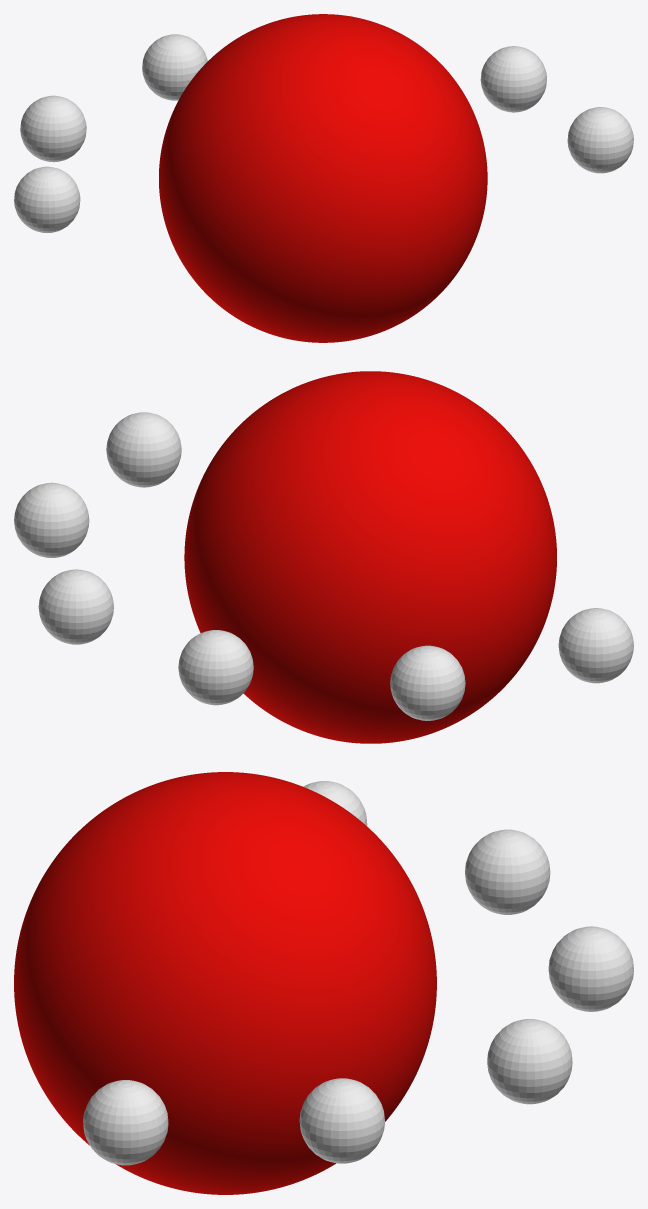
File: OxygenAtom.gltf
The picture shows the model from 3 angles, top to bottom: view 1: azimuth 30°, elevation 25°; view 2: azimuth 150°, elevation 25°; view 3: azimuth 270°, elevation 25°; orthographic projection. The views are drawn at different scales.
Visible parts, largest first — view 1: Icosphere, Sphere.001, Sphere.004, Sphere, Sphere.002, Sphere.005; view 2: Icosphere, Sphere.001, Sphere, Sphere.002, Sphere.005, Sphere.003, Sphere.004; view 3: Icosphere, Sphere.004, Sphere.003, Sphere.001, Sphere.002, Sphere.005, Sphere.
Part boxes in pixels (x1,y1,x2,y2): Icosphere: [159, 14, 487, 342]; Sphere.001: [567, 107, 633, 173]; Sphere.004: [20, 95, 86, 162]; Sphere: [14, 166, 80, 232]; Sphere.002: [480, 46, 546, 112]; Sphere.005: [142, 34, 207, 100]; Icosphere: [184, 371, 556, 743]; Sphere.001: [106, 412, 181, 487]; Sphere: [558, 608, 633, 683]; Sphere.002: [14, 482, 89, 557]; Sphere.005: [178, 630, 253, 705]; Sphere.003: [38, 569, 113, 644]; Sphere.004: [390, 645, 465, 720]; Icosphere: [14, 772, 436, 1194]; Sphere.004: [465, 829, 550, 914]; Sphere.003: [487, 1019, 572, 1104]; Sphere.001: [83, 1080, 168, 1165]; Sphere.002: [299, 1078, 384, 1163]; Sphere.005: [548, 926, 633, 1011]; Sphere: [303, 781, 367, 825].
Size of the model in its own units: 3.75 by 2 by 2.93.
